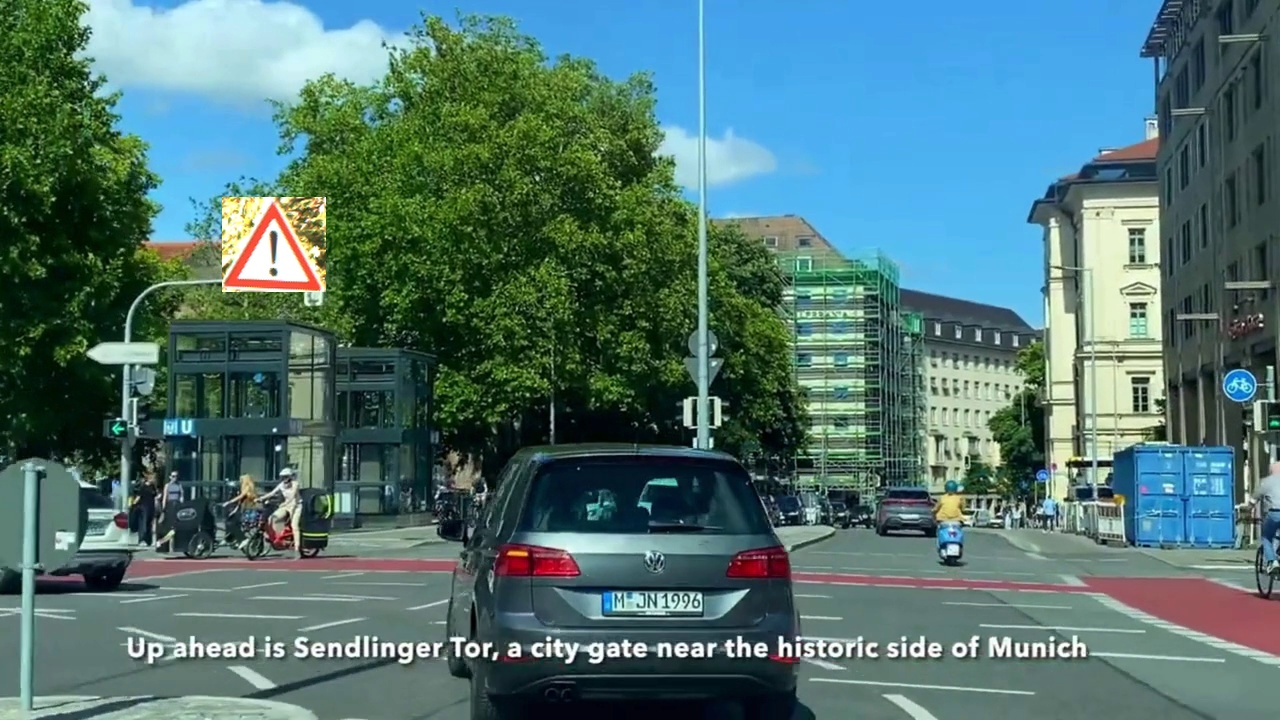Caution: (222, 197, 326, 292)
